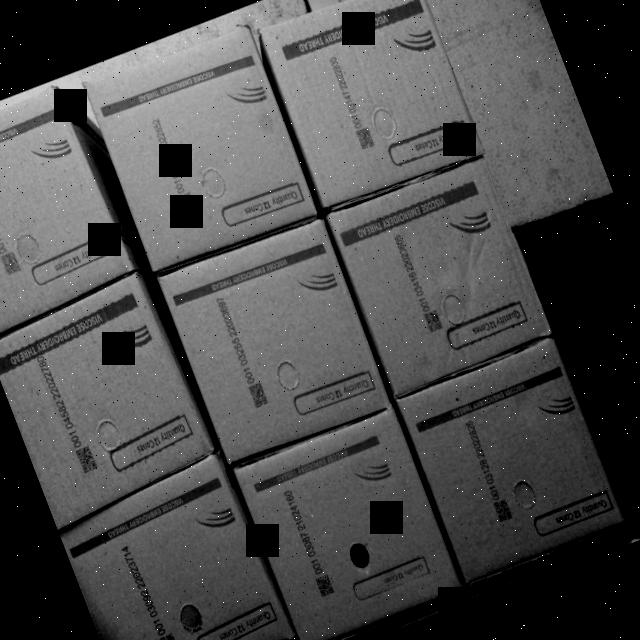box: (82, 18, 318, 274), (158, 214, 392, 468), (396, 334, 628, 587), (0, 273, 217, 525), (236, 408, 466, 640), (327, 156, 552, 392), (258, 0, 486, 211), (54, 456, 299, 640), (0, 84, 134, 327)
